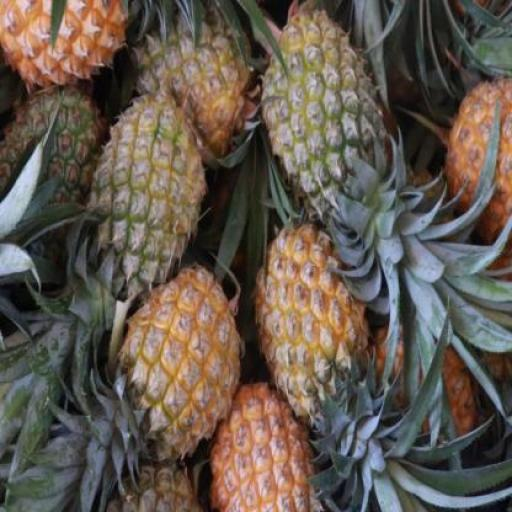------------------------------: (264, 3, 382, 217), (90, 97, 200, 292), (129, 4, 248, 161)
Pineapple - v8 v1: (257, 220, 366, 416), (122, 264, 234, 452), (208, 365, 321, 512)
